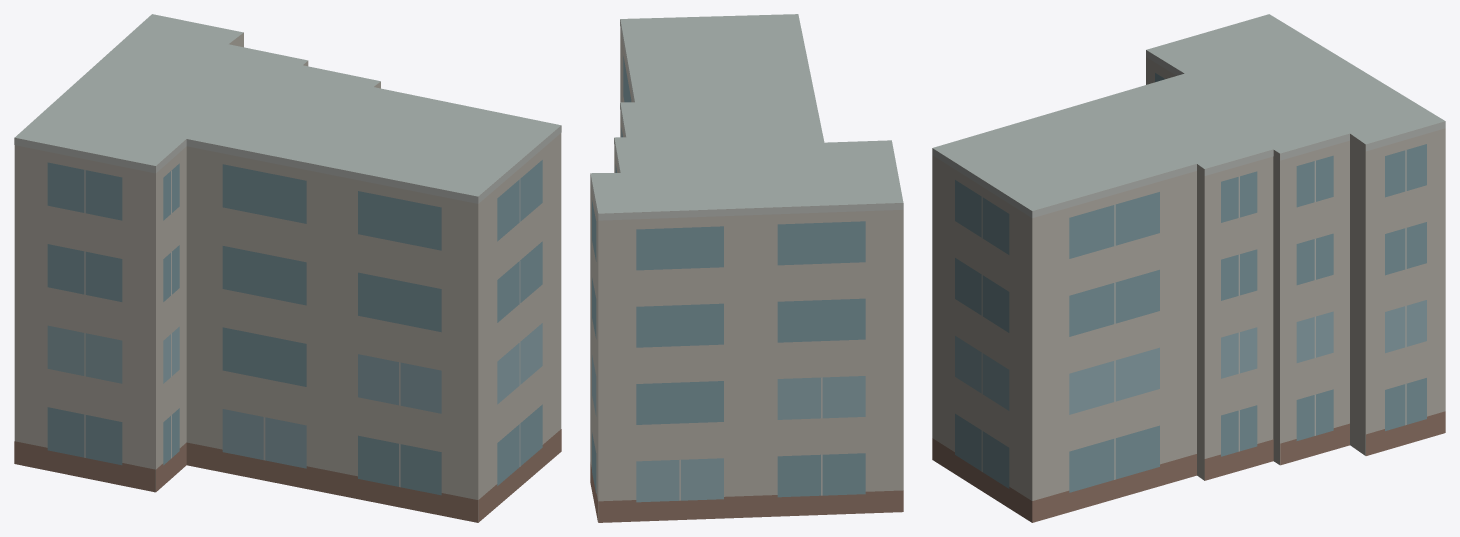
The model's file is survey-upis-32527815.glb.
The picture shows the model from 3 angles, left to right: view 1: azimuth 30°, elevation 25°; view 2: azimuth 150°, elevation 25°; view 3: azimuth 270°, elevation 25°; orthographic projection. The views are drawn at different scales.
Visible parts, largest first — view 1: survey-upis-32527815.tmp; view 2: survey-upis-32527815.tmp; view 3: survey-upis-32527815.tmp.
Part boxes in pixels (bbox=[...]): survey-upis-32527815.tmp: bbox=[14, 14, 561, 522]; survey-upis-32527815.tmp: bbox=[590, 14, 903, 522]; survey-upis-32527815.tmp: bbox=[932, 14, 1445, 522].
Size of the model in its own units: 14.66 by 10.8 by 16.13.
